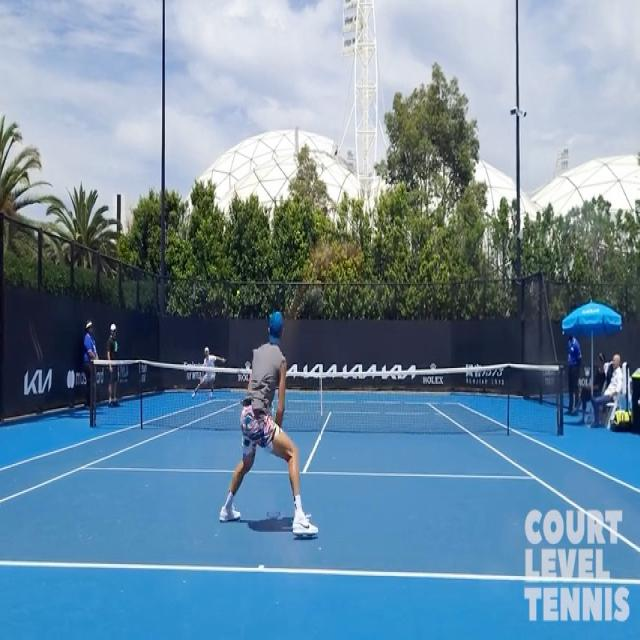ready-position: (212, 278, 326, 560)
